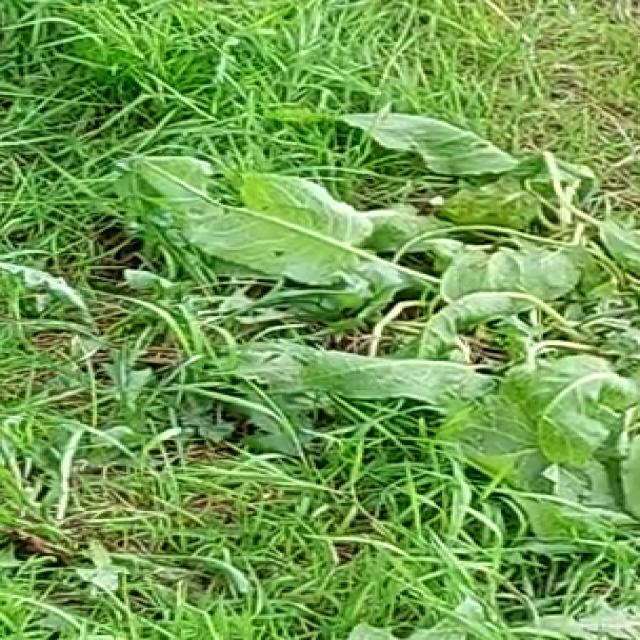organic waste: (153, 96, 640, 459)
